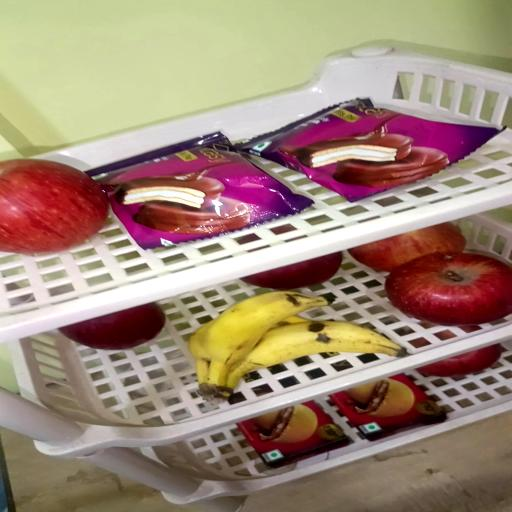Apple: (0, 160, 109, 256), (384, 254, 511, 327), (348, 224, 466, 274), (58, 304, 164, 351), (241, 253, 343, 291), (416, 344, 502, 378)
Choco Fills: (331, 374, 445, 440), (239, 401, 350, 466)
Choco Pie: (247, 97, 508, 202), (86, 130, 309, 246)
